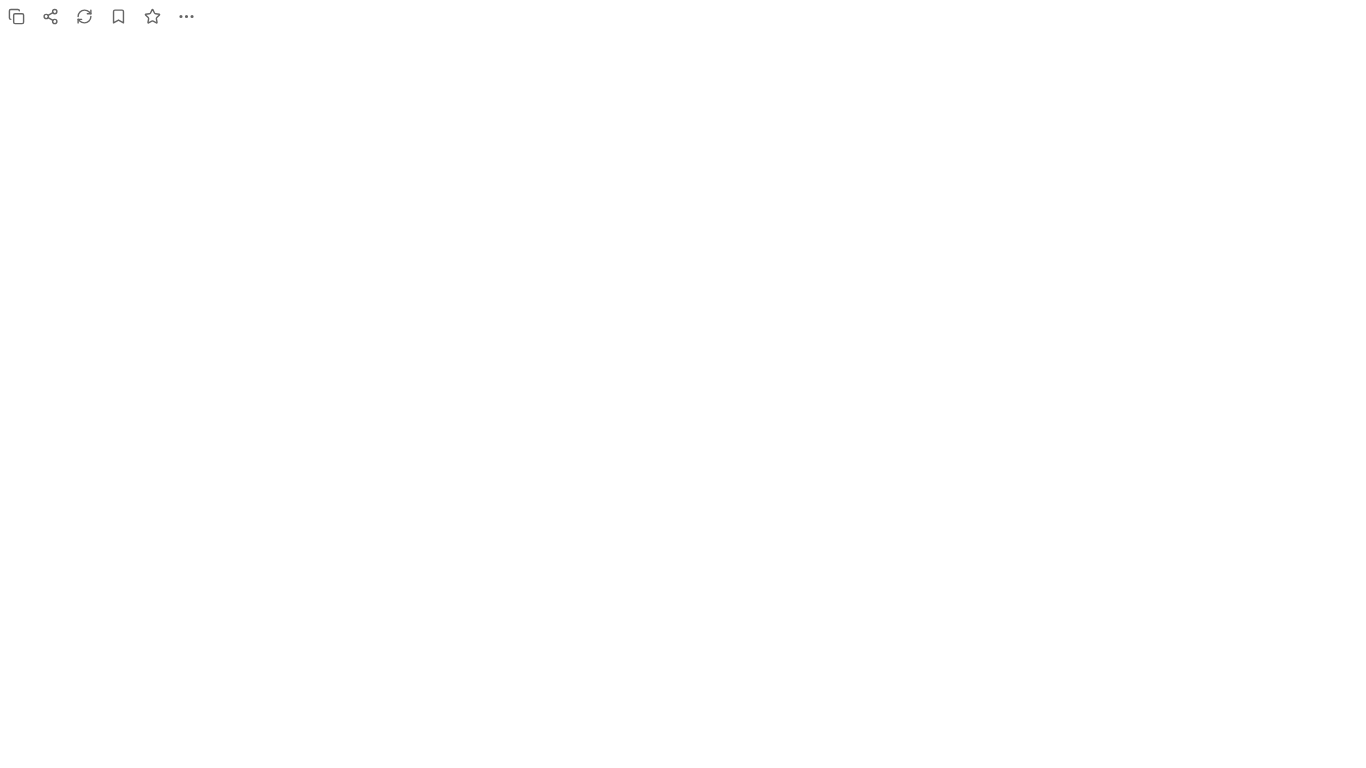
creates a public snapshot link and copies it after publication
The image size is (1366, 768).
Click the button named "分享答复" at (50, 16), box [34,0,66,32]
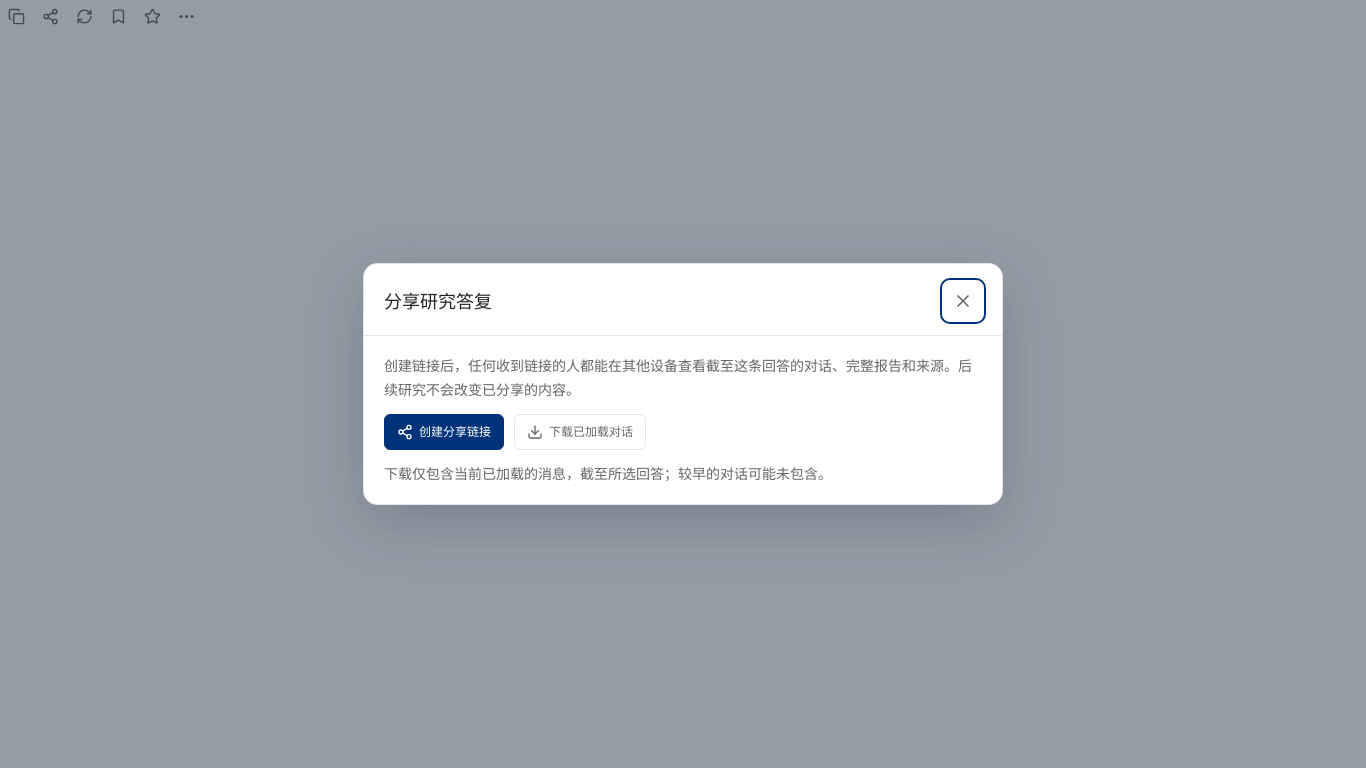
Click the button "创建分享链接" at (444, 432), box [384,414,504,450]
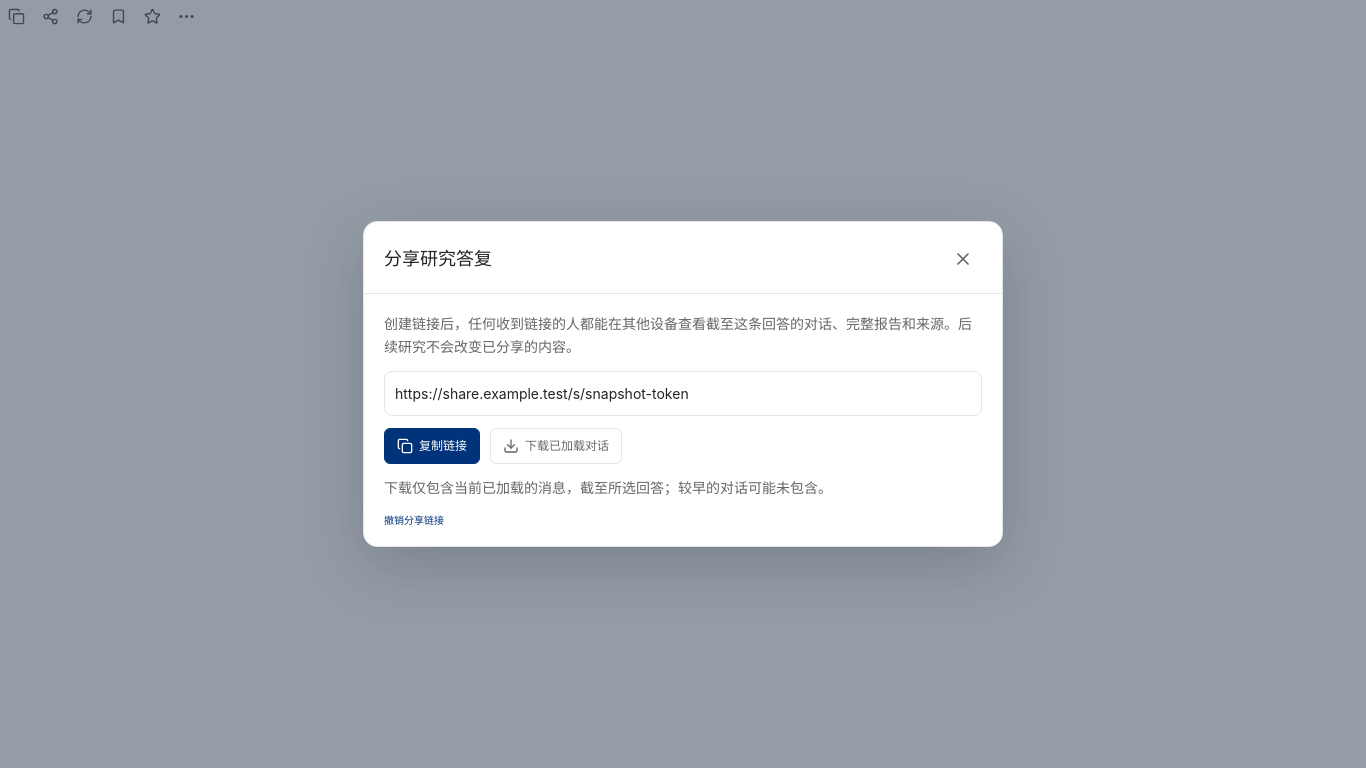
Click the button "复制链接" at (432, 446), box [384,428,480,464]
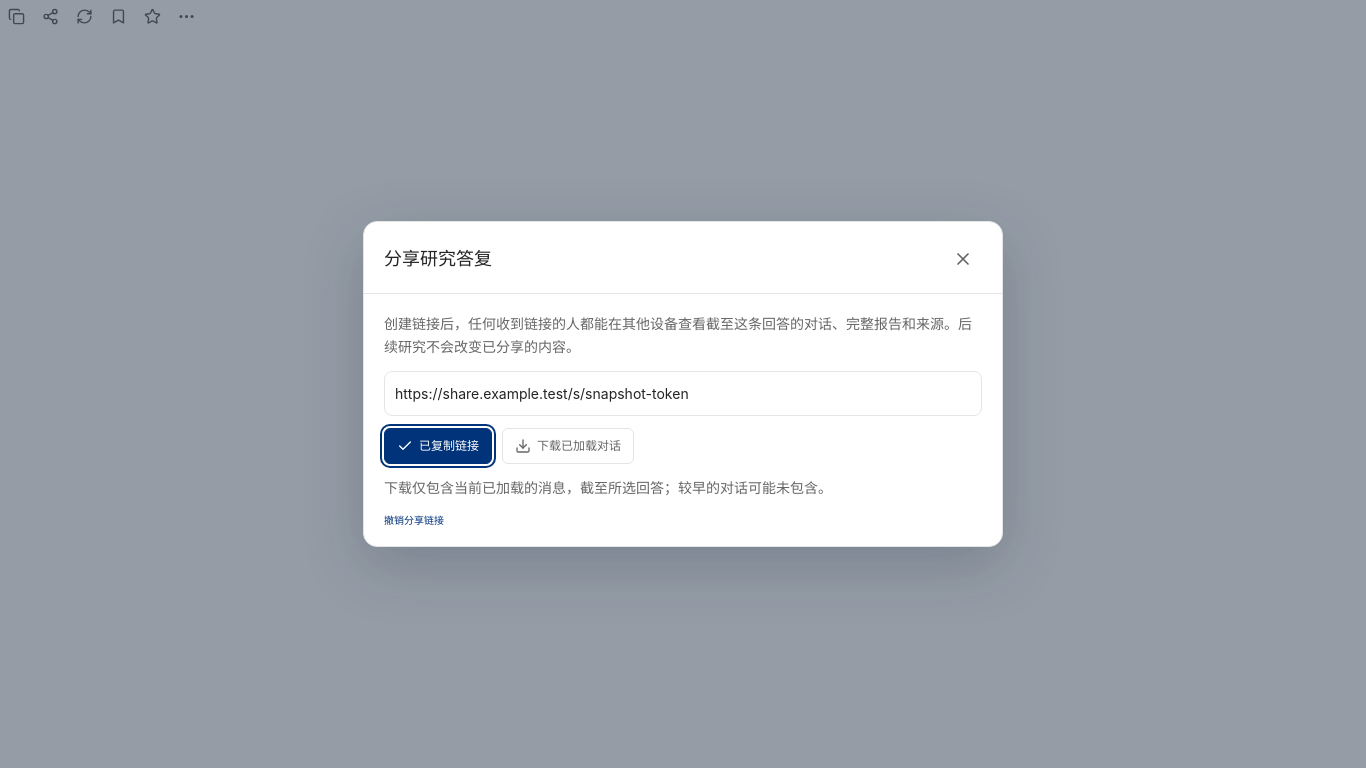
Check: the button "下载已加载对话" is shown, box [502,428,634,464]
Check: the button "已复制链接" is shown, box [384,428,492,464]
